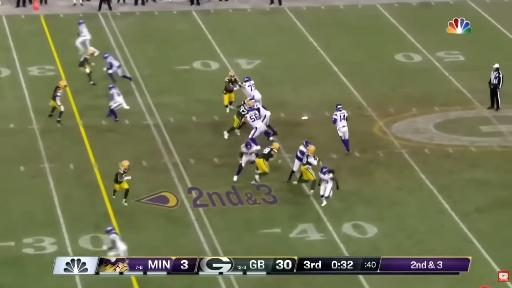Helmet: (104, 224, 116, 235), (320, 166, 329, 175), (247, 141, 254, 152), (122, 160, 130, 168), (58, 82, 67, 89), (307, 146, 316, 153), (102, 52, 110, 59), (272, 142, 280, 149), (303, 140, 311, 147), (243, 78, 252, 84), (336, 103, 343, 110), (88, 48, 95, 55), (228, 72, 235, 79), (108, 83, 114, 90), (247, 100, 253, 106), (77, 19, 84, 24)
Jersey: (254, 102, 270, 125), (245, 108, 262, 127), (223, 77, 239, 94), (259, 147, 276, 161), (333, 110, 347, 127), (254, 103, 270, 117), (114, 169, 128, 184), (106, 56, 121, 70), (244, 81, 257, 97), (236, 103, 248, 120), (109, 233, 123, 247), (52, 86, 62, 105), (78, 24, 91, 38), (302, 154, 317, 166), (241, 145, 258, 155), (296, 145, 306, 162), (109, 88, 122, 101), (319, 172, 333, 184), (79, 55, 90, 67)
Player: (293, 146, 318, 193), (249, 99, 277, 140), (252, 143, 279, 184), (245, 101, 270, 145), (287, 141, 313, 182), (234, 141, 260, 181), (224, 102, 247, 138), (48, 81, 67, 124), (103, 54, 131, 83), (76, 20, 99, 55), (333, 104, 349, 153), (107, 86, 129, 121), (113, 161, 130, 205), (319, 167, 338, 206), (223, 72, 241, 112), (104, 227, 127, 257), (78, 48, 96, 86), (244, 77, 262, 104)
